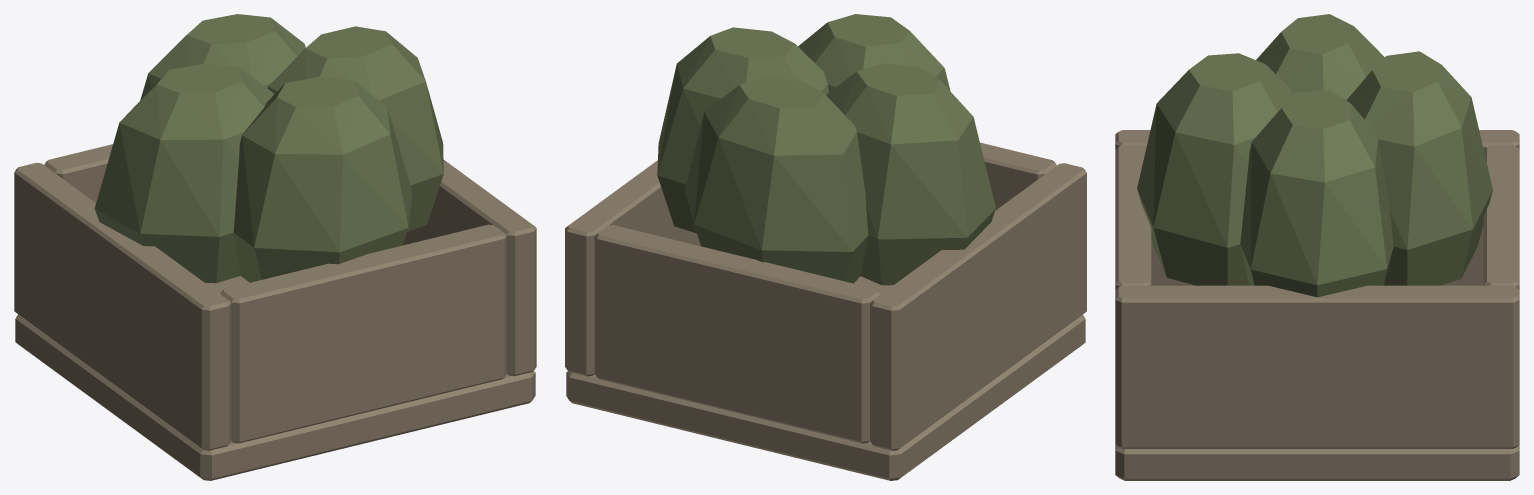
The model's file is planter-square.glb.
3 views of the same model, side by side, from view 1: azimuth 30°, elevation 25°; view 2: azimuth 150°, elevation 25°; view 3: azimuth 270°, elevation 25° (orthographic). The views are drawn at different scales.
Visible parts, largest first — view 1: planter-square__body; view 2: planter-square__body; view 3: planter-square__body.
Part boxes in pixels (x1=…): planter-square__body: x1=14, y1=14, x2=536, y2=480; planter-square__body: x1=565, y1=14, x2=1086, y2=480; planter-square__body: x1=1115, y1=14, x2=1519, y2=480.
Bounding box in the file's own units: 0.9 × 0.8 × 0.9.
